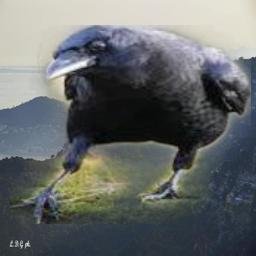Crow: (10, 25, 251, 224)
